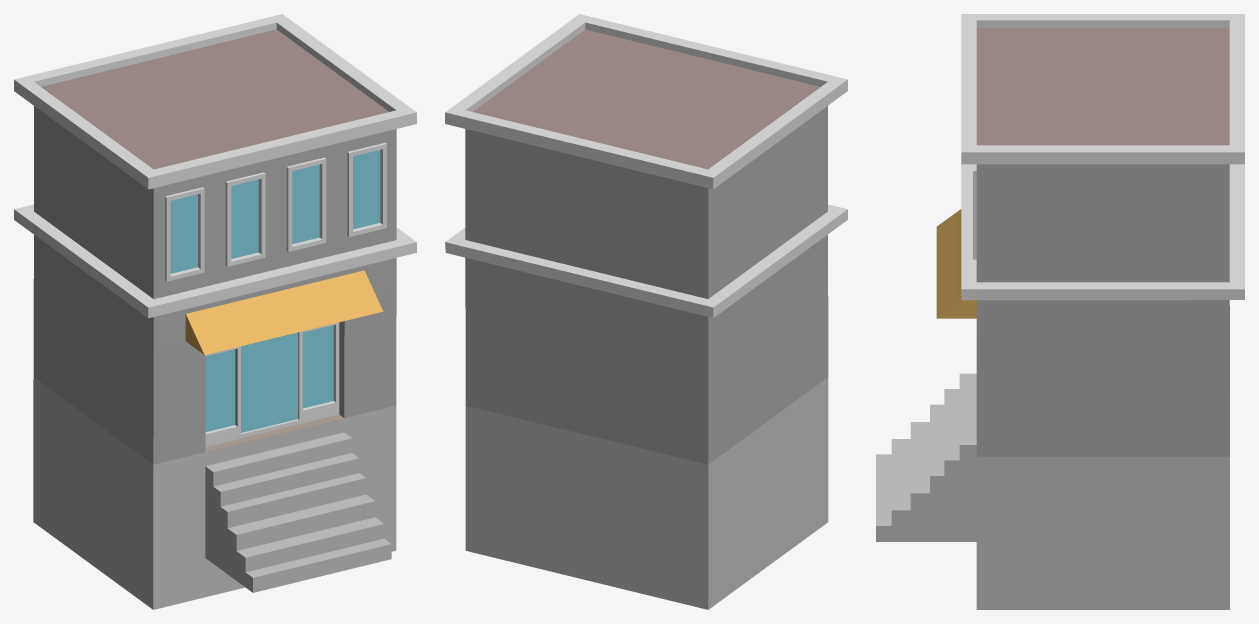
3 renders of one model, left to right at view 1: azimuth 30°, elevation 25°; view 2: azimuth 150°, elevation 25°; view 3: azimuth 270°, elevation 25°, orthographic. The views are drawn at different scales.
Parts seen in each view (by area): view 1: pCube22; view 2: pCube22; view 3: pCube22.
Part boxes in pixels (box(x1,y1,x2,y2)): pCube22: box(14, 14, 416, 609); pCube22: box(445, 14, 847, 609); pCube22: box(876, 14, 1244, 609).
Bounding box in the file's own units: 619 × 971 × 698.
